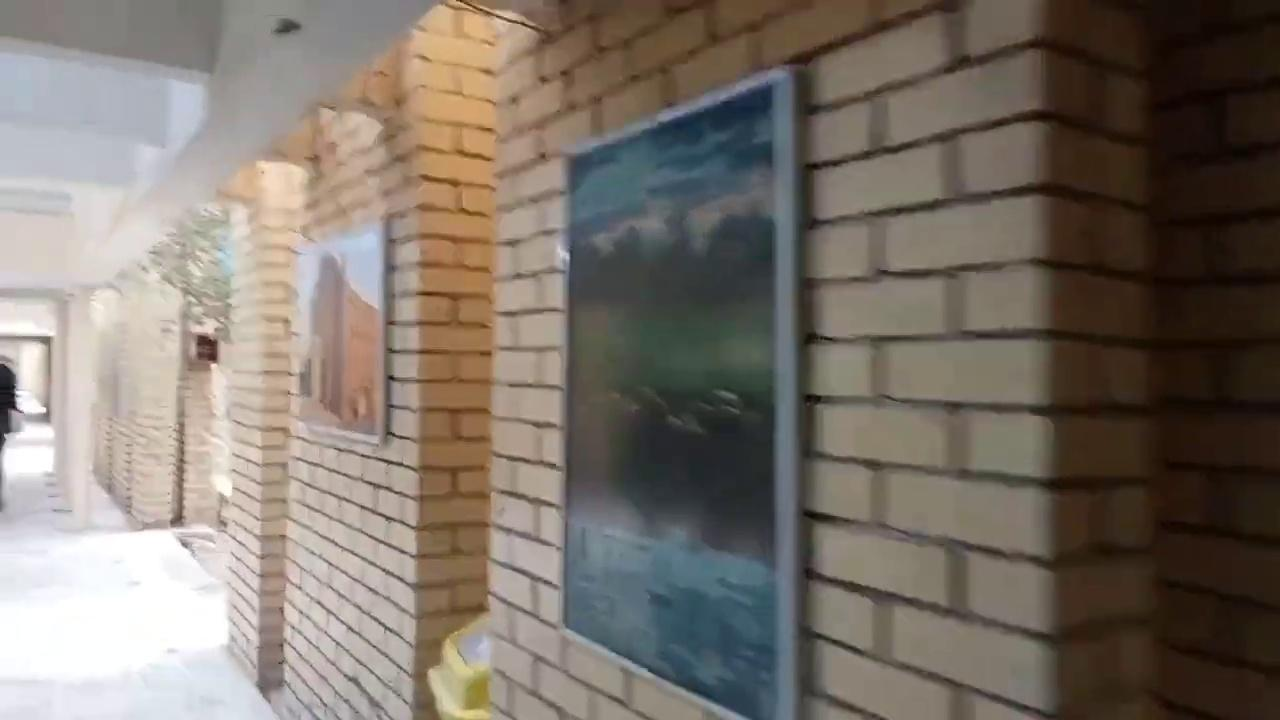person: (0, 359, 24, 510)
tree: (137, 200, 234, 531), (138, 201, 235, 345)
